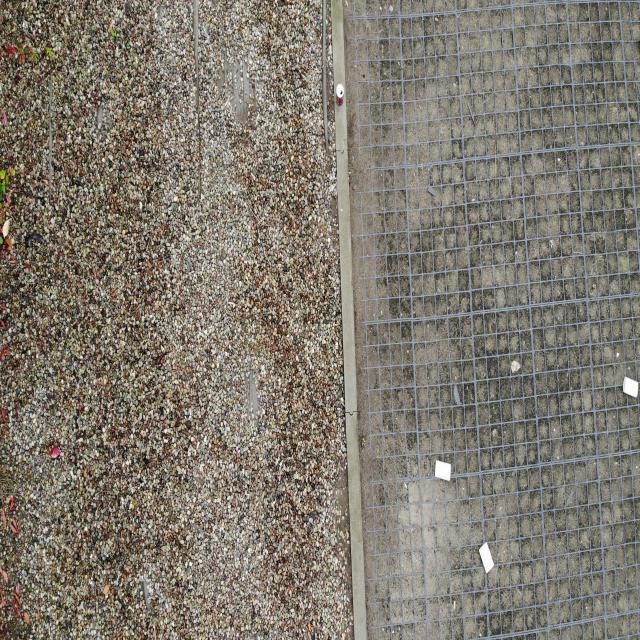rubbish: (477, 541, 495, 574), (434, 459, 451, 484), (623, 376, 639, 398), (336, 84, 344, 106)
